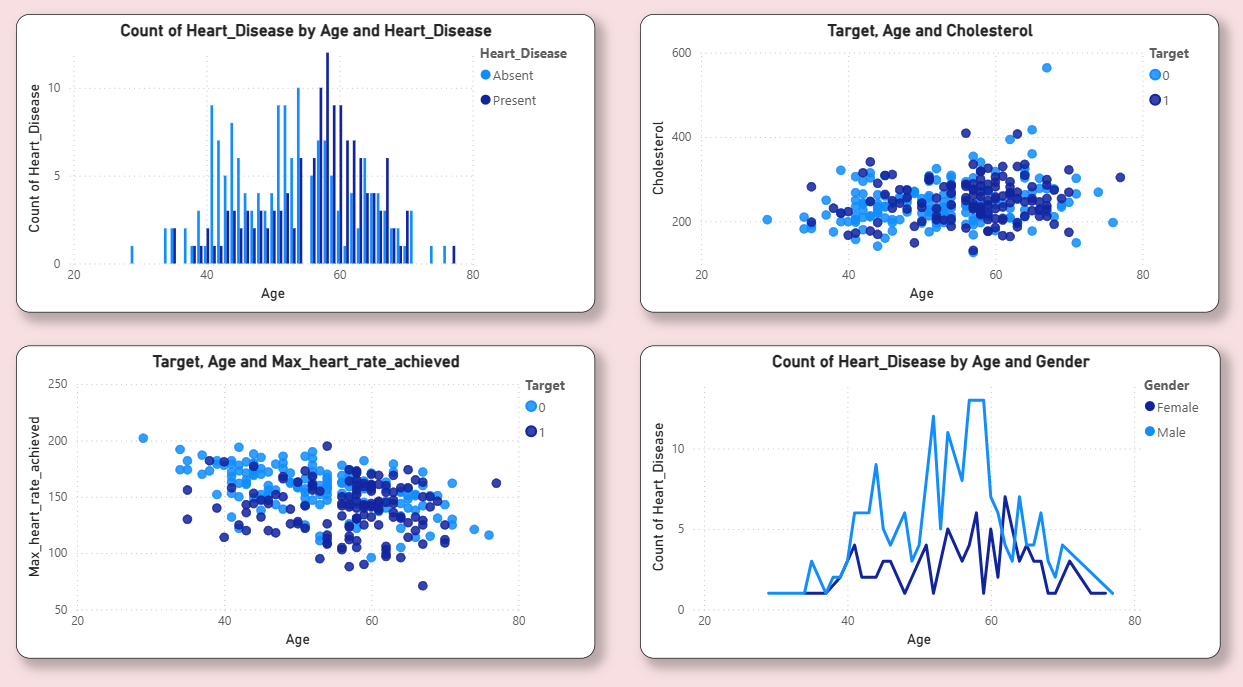

What the dashboard file says about the page in this screenshot:
{"tool":"powerbi","page":{"name":"Analysis ii","canvas":[1280,720],"ordinal":1},"visuals":[{"type":"clusteredColumnChart","fields":{"Category":["Heart Disease Diagnostic.Age"],"Y":["CountNonNull(Heart Disease Diagnostic.Heart_Disease)"],"Series":["Heart Disease Diagnostic.Heart_Disease"]},"box":[34,24.3,584.5,301.2],"z":0},{"type":"lineChart","fields":{"Category":["Heart Disease Diagnostic.Age"],"Y":["CountNonNull(Heart Disease Diagnostic.Heart_Disease)"],"Series":["Heart Disease Diagnostic.Gender"]},"box":[663.9,359.5,586.2,315.7],"z":1000},{"type":"scatterChart","fields":{"X":["Heart Disease Diagnostic.Age"],"Y":["Heart Disease Diagnostic.Max_heart_rate_achieved"],"Series":["Heart Disease Diagnostic.target"]},"box":[34,359.5,584.5,315.7],"z":2000},{"type":"scatterChart","fields":{"Series":["Heart Disease Diagnostic.target"],"X":["Heart Disease Diagnostic.Age"],"Y":["Heart Disease Diagnostic.Cholesterol"]},"box":[663.9,24.3,584.5,301.2],"z":3000}]}

Visuals, with their boxes in screenshot pixels (x1, y1, x2, y2), scaled from the page's 1280x720 canvas onto the 1243x687 screenshot:
clusteredColumnChart - Heart Disease Diagnostic.Age x CountNonNull(Heart Disease Diagnostic.Heart_Disease): 33,23,601,311
lineChart - Heart Disease Diagnostic.Age x CountNonNull(Heart Disease Diagnostic.Heart_Disease): 645,343,1214,644
scatterChart - Heart Disease Diagnostic.Age x Heart Disease Diagnostic.Max_heart_rate_achieved: 33,343,601,644
scatterChart - Heart Disease Diagnostic.target x Heart Disease Diagnostic.Age: 645,23,1212,311
